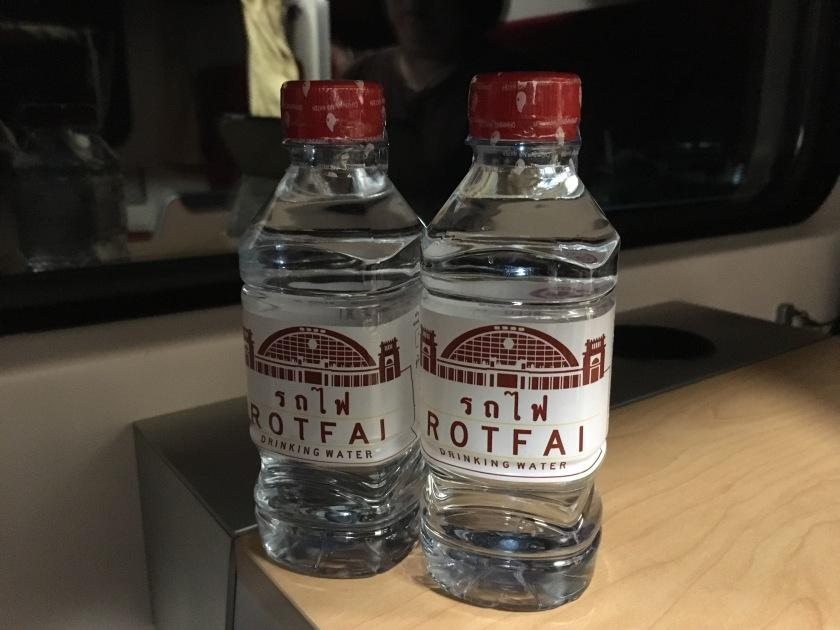plastic_bottle: (413, 52, 618, 618), (235, 75, 429, 580)
